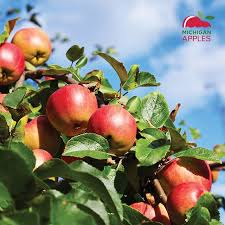apple: (43, 86, 98, 135), (90, 103, 136, 149), (155, 157, 210, 192), (160, 182, 208, 219), (12, 29, 52, 65), (20, 120, 58, 149), (21, 148, 54, 171), (1, 42, 20, 78)
